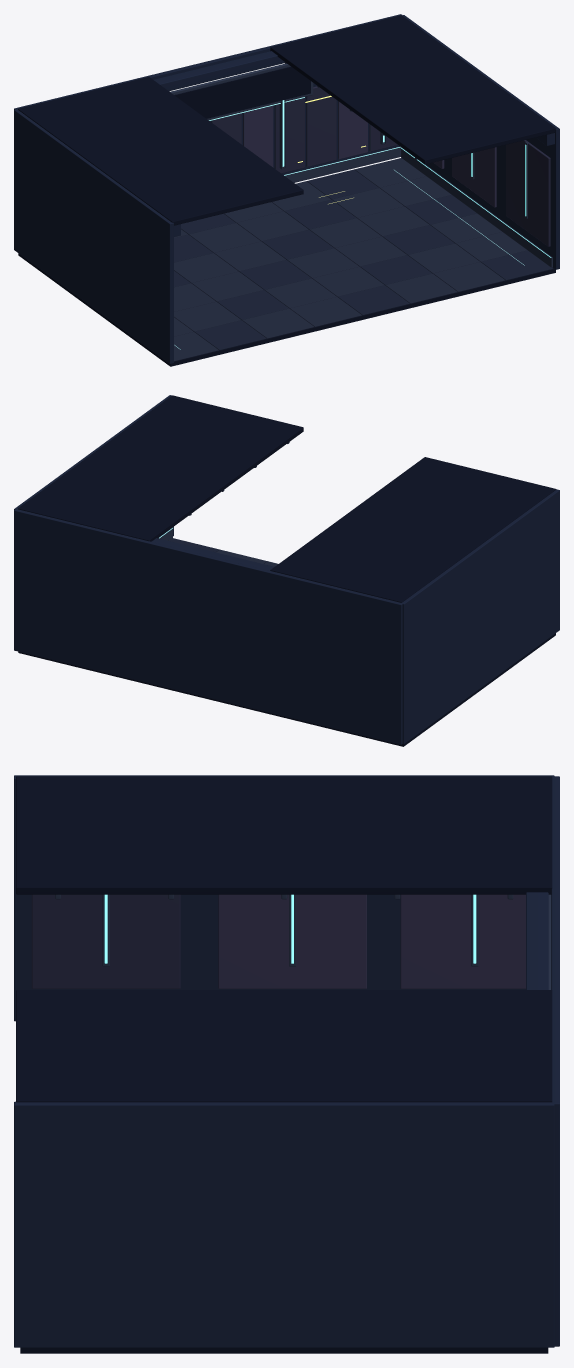
The model's file is midnight-room.glb.
3 views of the same model, one above another, from view 1: azimuth 30°, elevation 25°; view 2: azimuth 150°, elevation 25°; view 3: azimuth 270°, elevation 25° (orthographic). The views are drawn at different scales.
Parts seen in each view (by area): view 1: Midnight - joints graphite bleute, Midnight - indigo mat, Midnight - terrazzo indigo, Midnight - dalles indigo profond, Midnight - feutre violet doux, Midnight - aluminium anodise nuit, Midnight - panneaux aubergine, Midnight - diffuseur cyan; view 2: Midnight - indigo mat, Midnight - joints graphite bleute; view 3: Midnight - indigo mat, Midnight - joints graphite bleute, Midnight - panneaux aubergine, Midnight - feutre violet doux, Midnight - aluminium anodise nuit, Midnight - diffuseur cyan.
Part boxes in pixels (x1,y1,x2,y2): Midnight - joints graphite bleute: (18,15,556,366); Midnight - indigo mat: (14,14,559,363); Midnight - terrazzo indigo: (174,158,527,361); Midnight - dalles indigo profond: (174,169,552,350); Midnight - feutre violet doux: (211,86,550,246); Midnight - aluminium anodise nuit: (170,62,552,267); Midnight - panneaux aubergine: (243,101,496,207); Midnight - diffuseur cyan: (174,97,551,349); Midnight - indigo mat: (14,395,559,744); Midnight - joints graphite bleute: (18,395,556,746); Midnight - indigo mat: (14,775,559,1347); Midnight - joints graphite bleute: (16,776,552,1353); Midnight - panneaux aubergine: (218,894,525,988); Midnight - feutre violet doux: (31,894,180,988); Midnight - aluminium anodise nuit: (55,894,551,989); Midnight - diffuseur cyan: (104,894,476,963).
Size of the model in its own units: 18.64 by 6.64 by 13.03.
